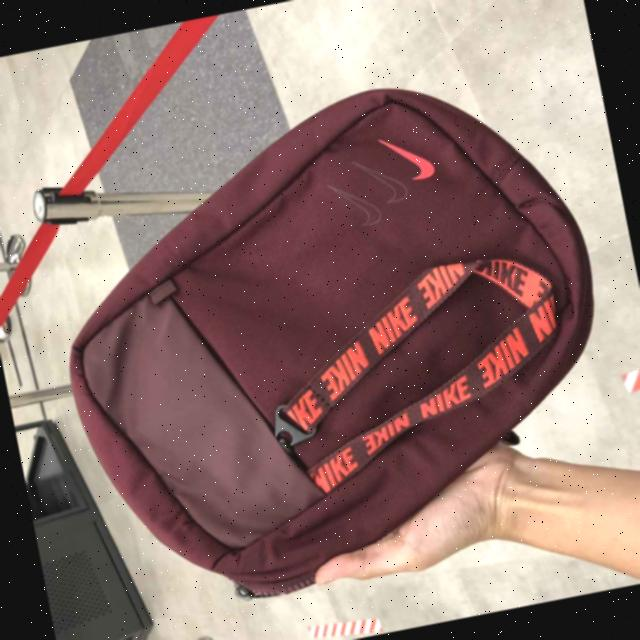Handbag: (26, 51, 640, 628)
